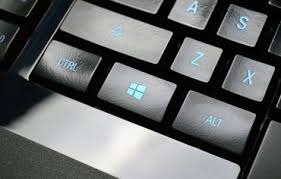keyboard: (3, 0, 280, 179)
